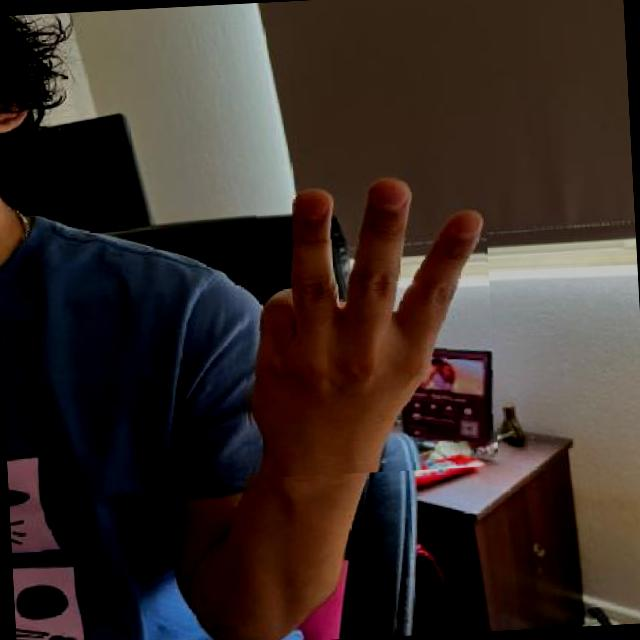W: (231, 161, 498, 479)
